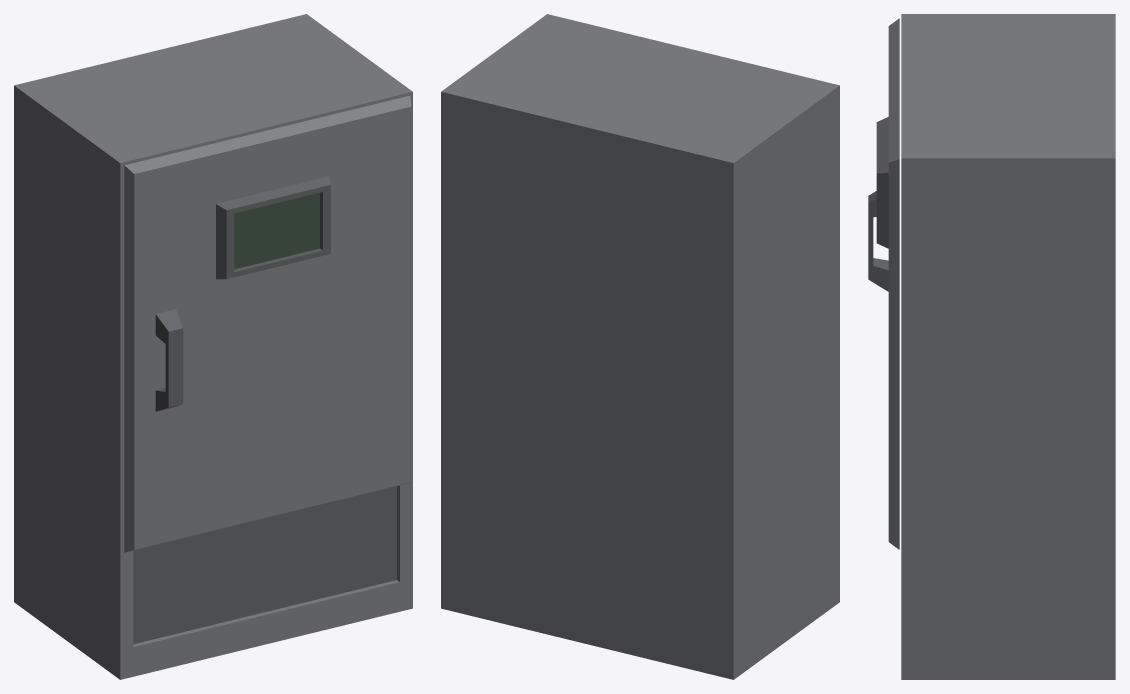
File: lab-oven.fbx
The picture shows the model from 3 angles, left to right: view 1: azimuth 30°, elevation 25°; view 2: azimuth 150°, elevation 25°; view 3: azimuth 270°, elevation 25°; orthographic projection.
Parts seen in each view (by area): view 1: oven, door; view 2: oven; view 3: oven, door.
Boxes of the visible parts, bbox=[...] form: oven: bbox=[14, 14, 412, 679]; door: bbox=[124, 95, 411, 552]; oven: bbox=[441, 14, 839, 679]; oven: bbox=[901, 14, 1115, 679]; door: bbox=[868, 18, 899, 549].
Bounding box in the file's own units: 131 × 220 × 94.66.
